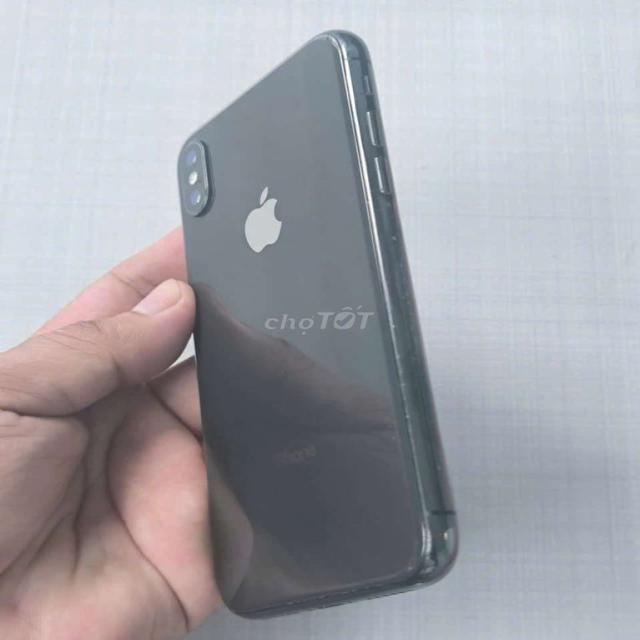gen_x_xs: (177, 31, 457, 618)
